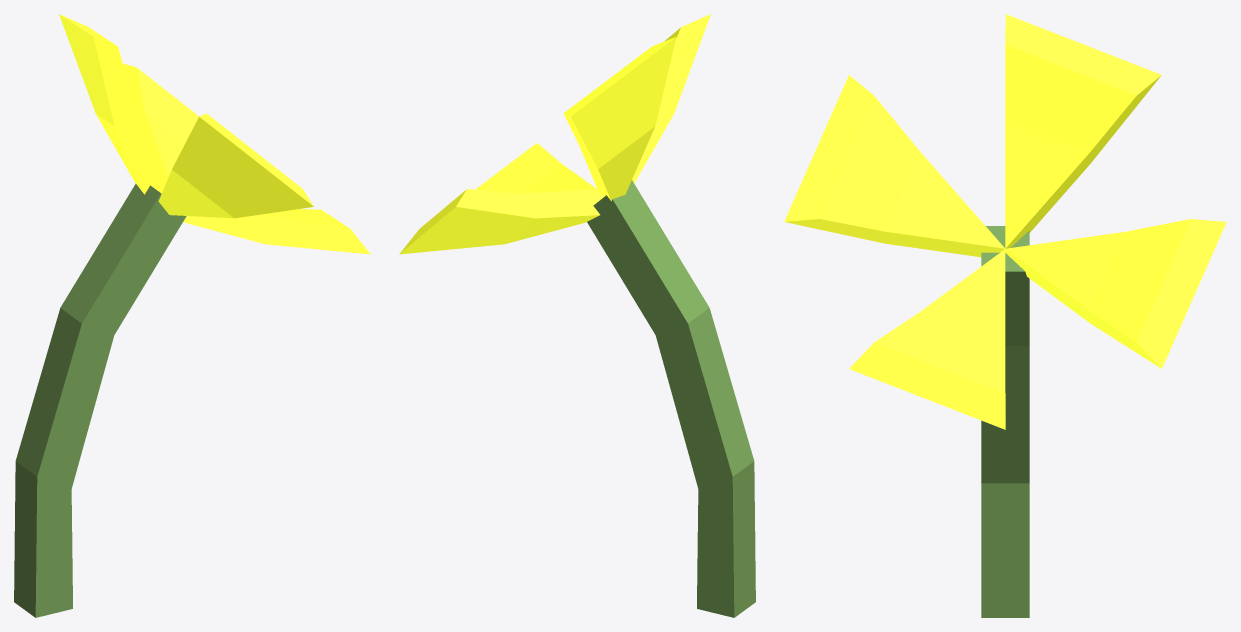
File: Flower 3.fbx
3 views of the same model, side by side, from view 1: azimuth 30°, elevation 25°; view 2: azimuth 150°, elevation 25°; view 3: azimuth 270°, elevation 25° (orthographic). The views are drawn at different scales.
Visible parts, largest first — view 1: Cube.003; view 2: Cube.003; view 3: Cube.003.
Boxes of the visible parts, <box> form: Cube.003: <box>14,14,370,617</box>; Cube.003: <box>399,14,755,617</box>; Cube.003: <box>784,14,1226,617</box>.
Bounding box in the file's own units: 0.1409 × 0.2405 × 0.1554.
